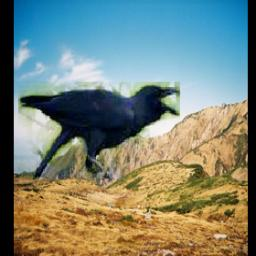Crow: (19, 83, 181, 181)
